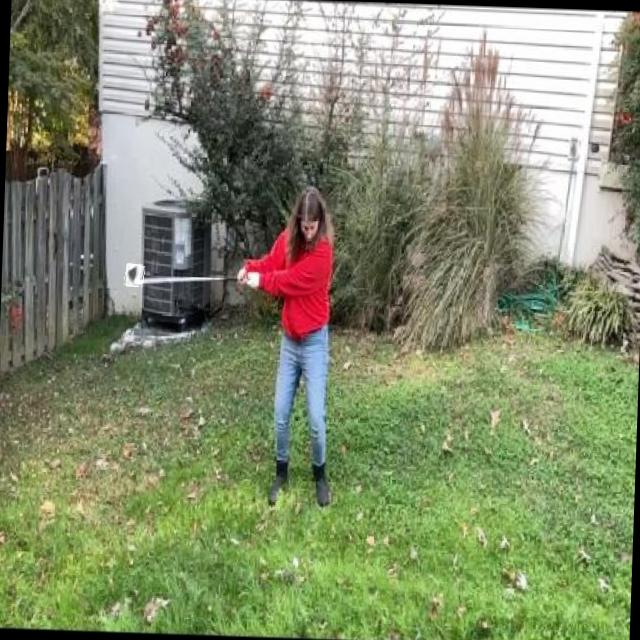club head: (125, 263, 144, 287)
